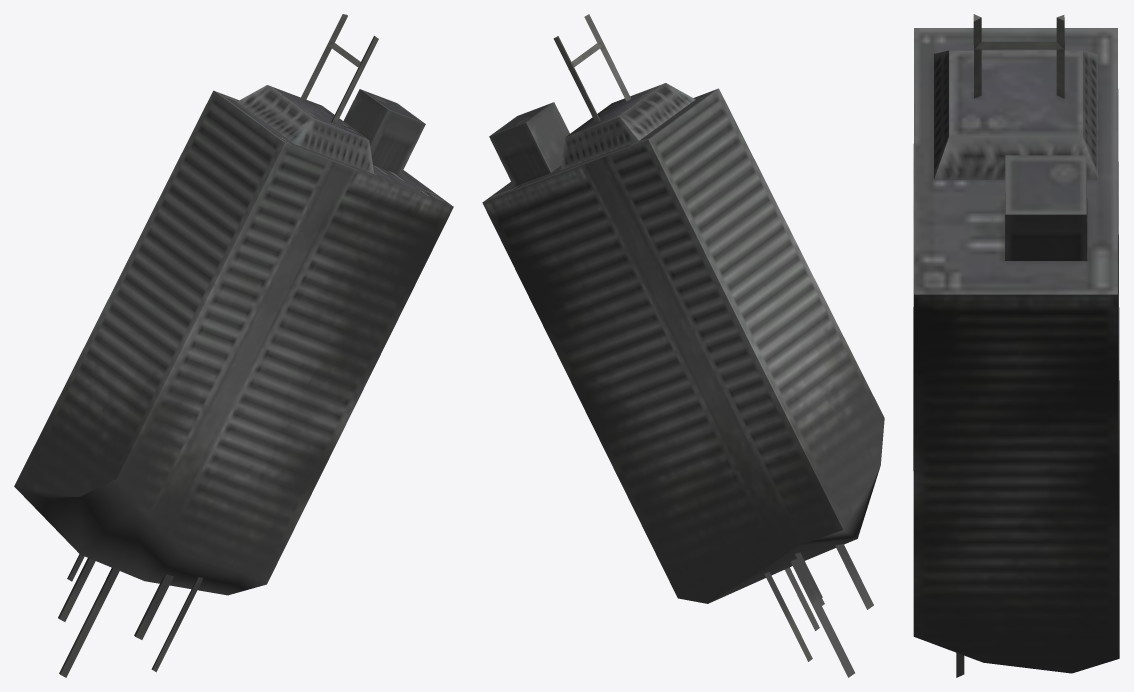
File: skyBuildingAAC_pos_grp (8).fbx
3 views of the same model, side by side, from view 1: azimuth 30°, elevation 25°; view 2: azimuth 150°, elevation 25°; view 3: azimuth 270°, elevation 25° (orthographic). The views are drawn at different scales.
Visible parts, largest first — view 1: skyBuildingAAC_geo; view 2: skyBuildingAAC_geo; view 3: skyBuildingAAC_geo.
Boxes of the visible parts, left/top/right/bottom form: skyBuildingAAC_geo: left=14, top=14, right=453, bottom=677; skyBuildingAAC_geo: left=482, top=14, right=884, bottom=677; skyBuildingAAC_geo: left=913, top=14, right=1119, bottom=677.
Size of the model in its own units: 6.95 by 10.5 by 2.35.
